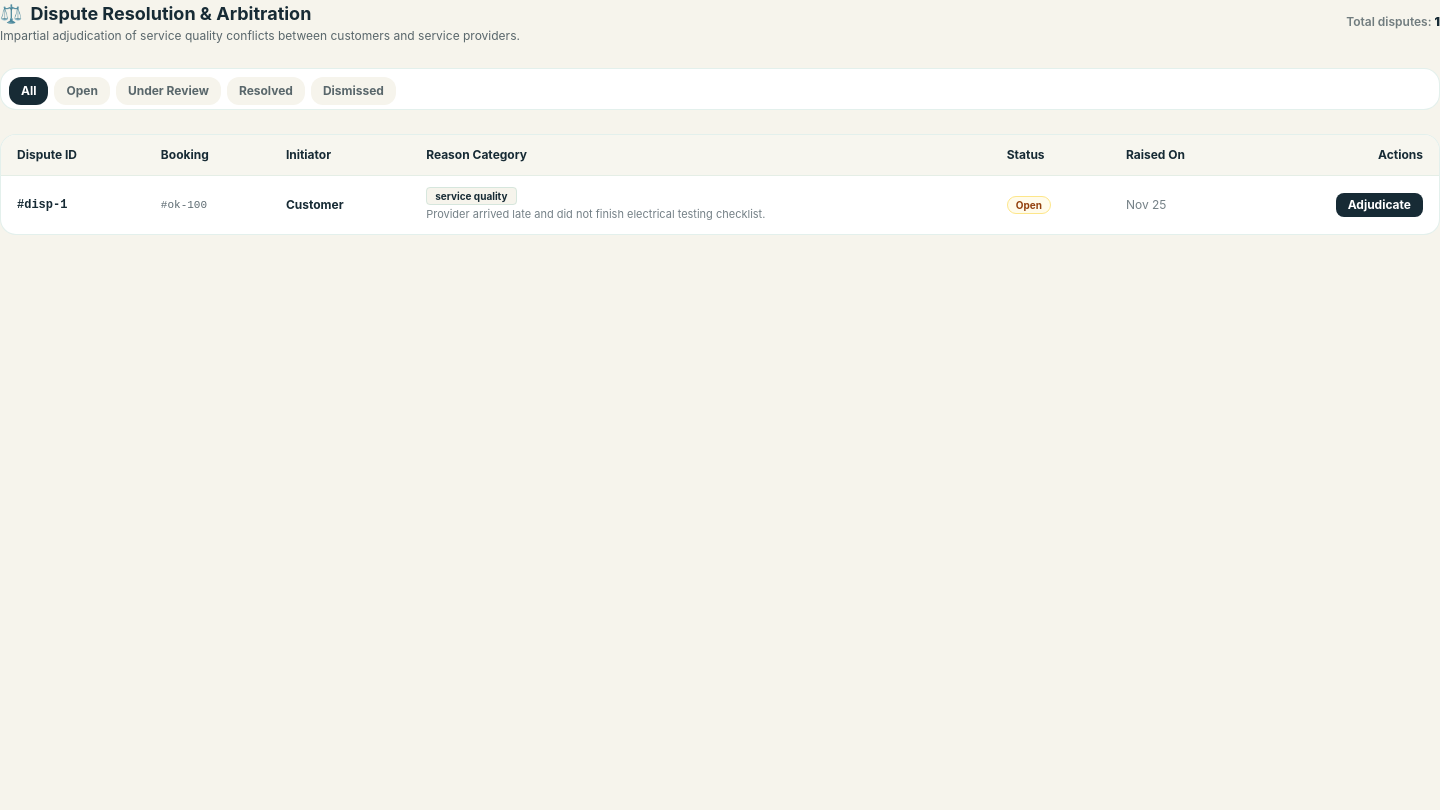
it: Phase 3: Admin Experience Frontend Suite › renders Milestone 3D disputes list and opens adjudication modal with resolution options
Expected: the text "#ok-100" is shown, left=145, top=176, right=270, bottom=234
Expected: the text "service quality" is shown, left=426, top=187, right=517, bottom=205
Open adjudication modal
Click the button "Adjudicate" at [1379, 205], box left=1336, top=193, right=1423, bottom=217
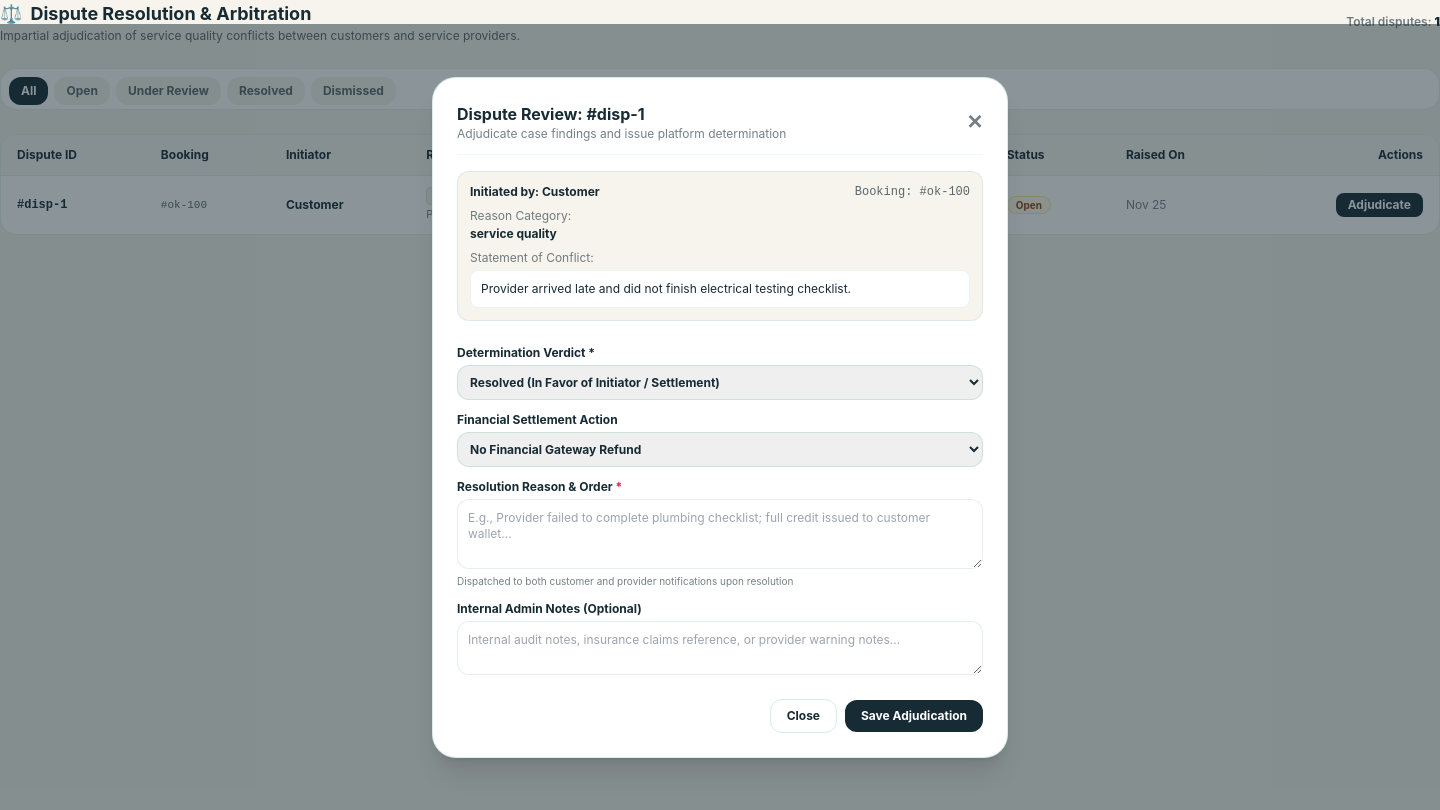
Expected: the heading "Dispute Review: #disp-1" is shown, left=457, top=104, right=645, bottom=124
Expected: the text "Statement of Conflict:" is shown, left=470, top=250, right=594, bottom=264
Expected: the text "Determination Verdict *" is shown, left=457, top=344, right=595, bottom=360
